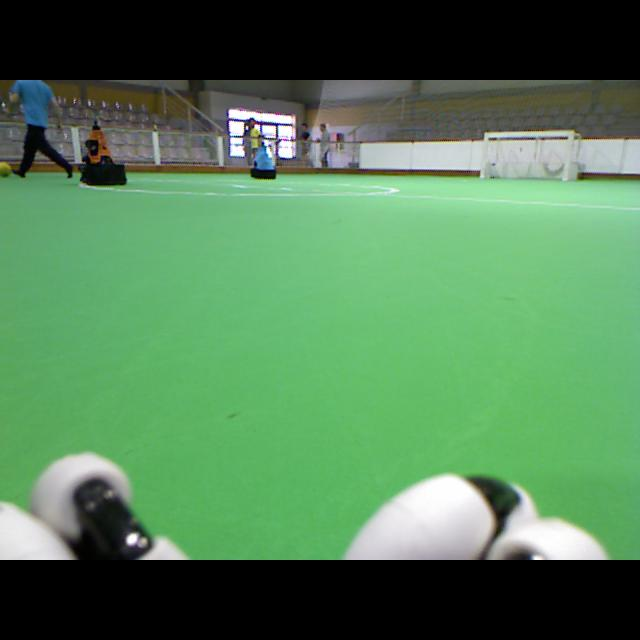ball: (1, 162, 10, 176)
goal: (562, 130, 575, 181), (480, 132, 488, 178)
robot: (78, 107, 126, 185)
